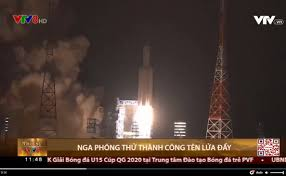ten_lua: (137, 39, 157, 107)
